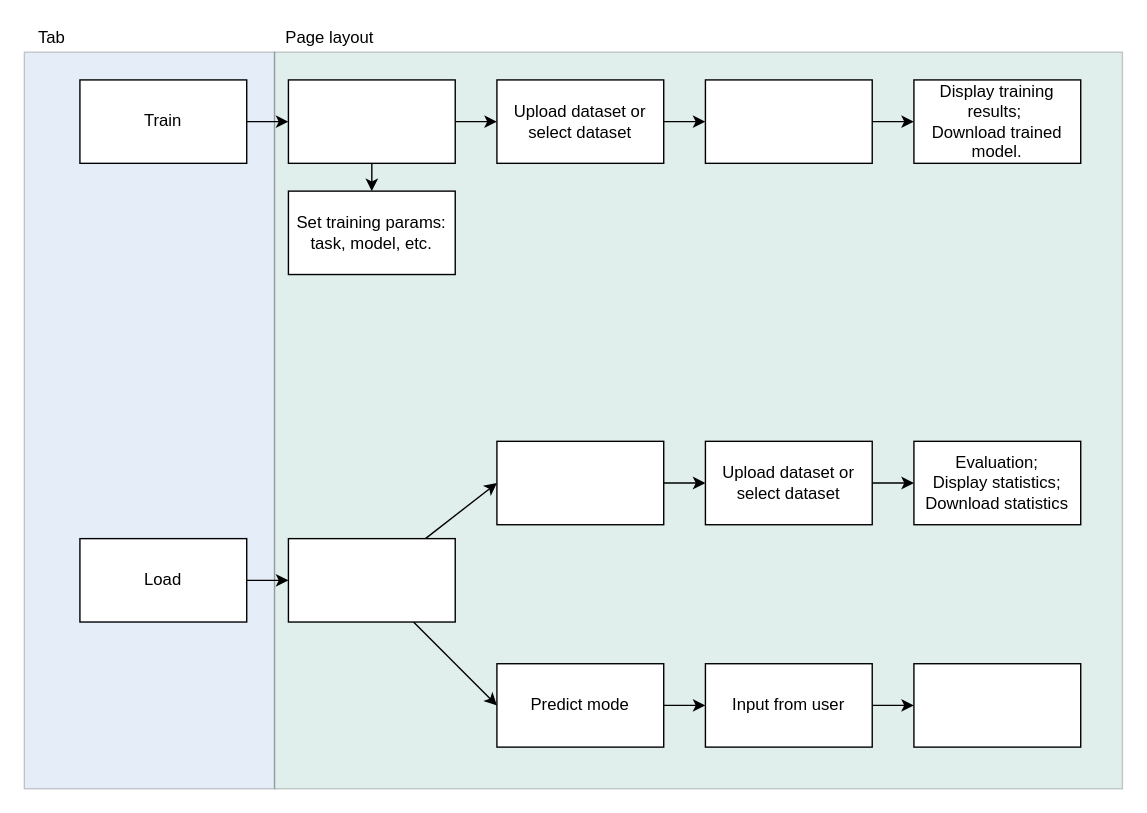
Image size: 1147x813. Some labels were removed from this diagram. The box of each missing label's shape, as (x1, y1, x2, y2) in pixels:
Batch mode: (496, 440, 664, 525)
Display prediction and interpretation results.: (913, 662, 1081, 747)
Load existing model; or upload model.: (287, 537, 455, 622)
Select task: (287, 79, 455, 163)
Training; Display log.: (704, 79, 872, 163)
